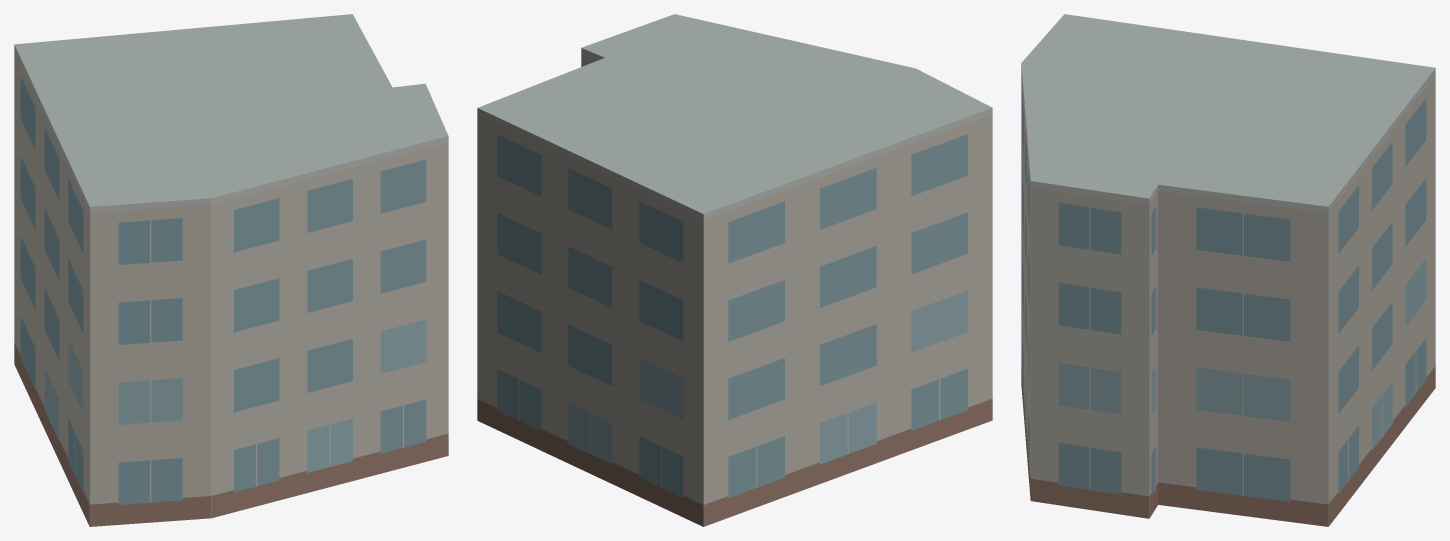
File: survey-upis-32917452.glb
The picture shows the model from 3 angles, left to right: view 1: azimuth 30°, elevation 25°; view 2: azimuth 150°, elevation 25°; view 3: azimuth 270°, elevation 25°; orthographic projection. The views are drawn at different scales.
Visible parts, largest first — view 1: survey-upis-32917452.tmp; view 2: survey-upis-32917452.tmp; view 3: survey-upis-32917452.tmp.
Part boxes in pixels (x1=…): survey-upis-32917452.tmp: x1=14, y1=14, x2=448, y2=526; survey-upis-32917452.tmp: x1=477, y1=14, x2=992, y2=526; survey-upis-32917452.tmp: x1=1021, y1=14, x2=1435, y2=526.
Bounding box in the file's own units: 16.03 × 12.4 × 14.56.
